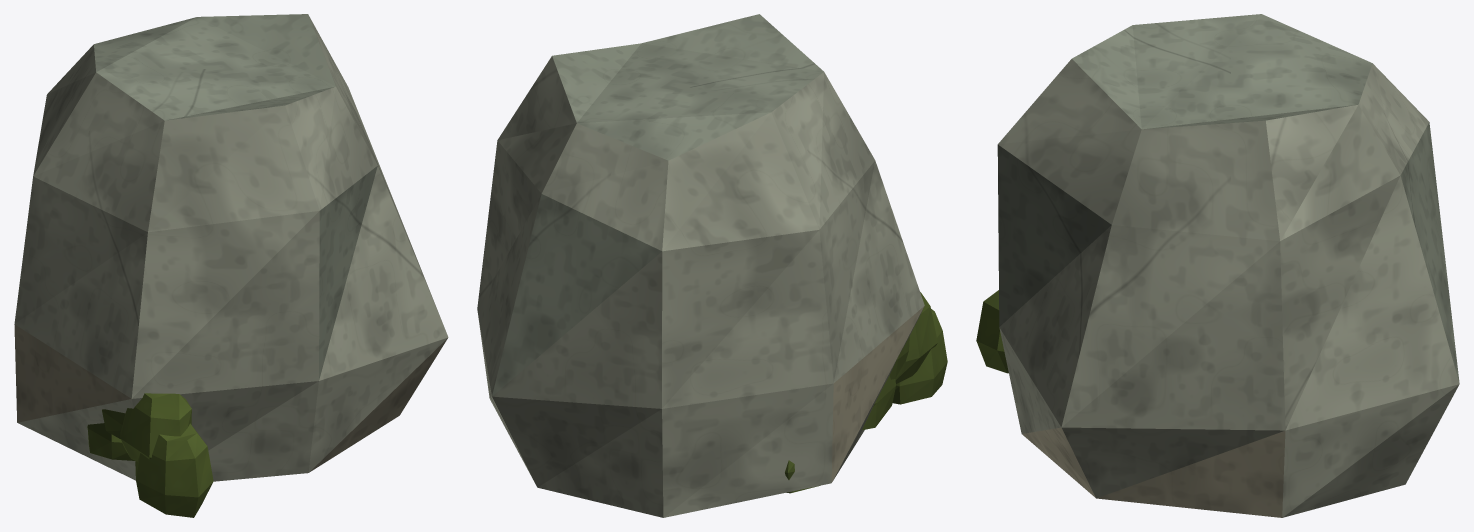
File: b11_rock_3.fbx
3 views of the same model, side by side, from view 1: azimuth 30°, elevation 25°; view 2: azimuth 150°, elevation 25°; view 3: azimuth 270°, elevation 25° (orthographic). The views are drawn at different scales.
Parts seen in each view (by area): view 1: b11_rock_3; view 2: b11_rock_3; view 3: b11_rock_3.
Part boxes in pixels (x1=…): b11_rock_3: x1=14, y1=14, x2=448, y2=517; b11_rock_3: x1=477, y1=14, x2=947, y2=517; b11_rock_3: x1=976, y1=14, x2=1459, y2=517.
Bounding box in the file's own units: 7746 × 8658 × 7771.
